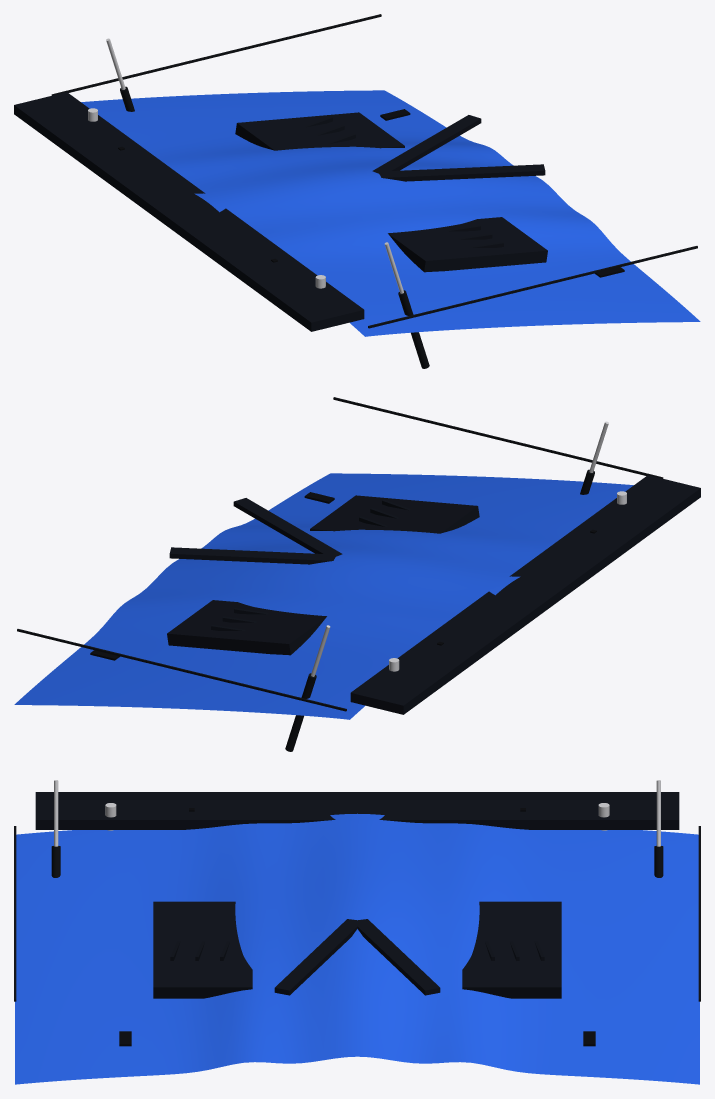
The model's file is bmw_i8_supercar_hood_closed.glb.
3 renders of one model, top to bottom at view 1: azimuth 30°, elevation 25°; view 2: azimuth 150°, elevation 25°; view 3: azimuth 270°, elevation 25°, orthographic. The views are drawn at different scales.
Visible parts, largest first — view 1: Block04_ProductionSculptedHood; view 2: Block04_ProductionSculptedHood; view 3: Block04_ProductionSculptedHood.
Part boxes in pixels (x1,y1,x2,y2): Block04_ProductionSculptedHood: (14,14,700,368); Block04_ProductionSculptedHood: (14,397,700,751); Block04_ProductionSculptedHood: (14,780,700,1084).
Bounding box in the file's own units: 0.86 × 0.2968 × 1.24.
